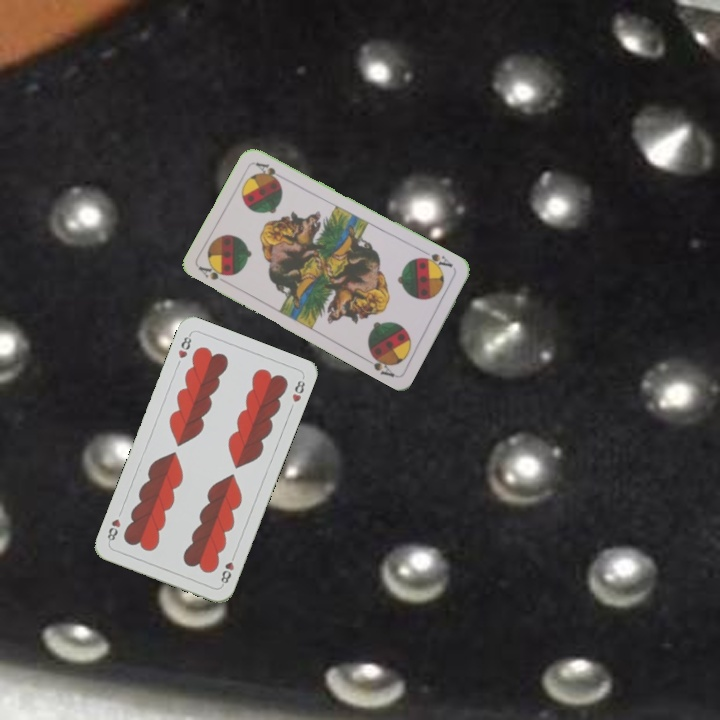H8: (216, 549, 238, 588), (174, 330, 194, 361)
SA: (195, 260, 233, 287), (416, 247, 456, 272)
